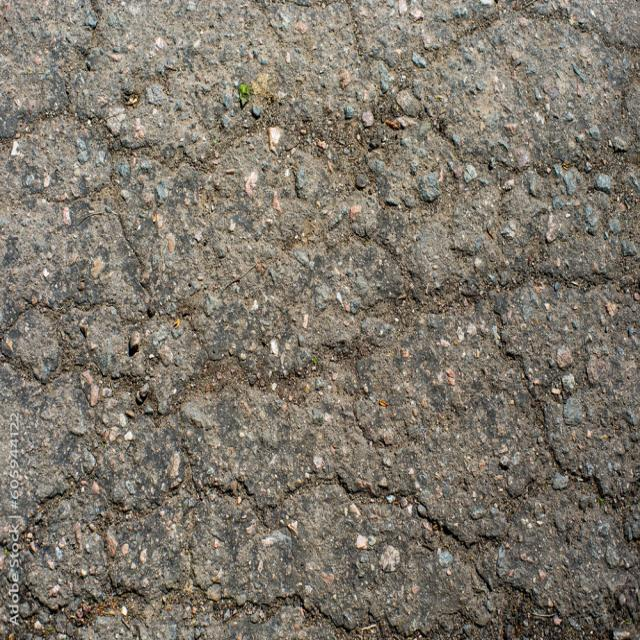Drain Hole: (143, 53, 592, 503)
